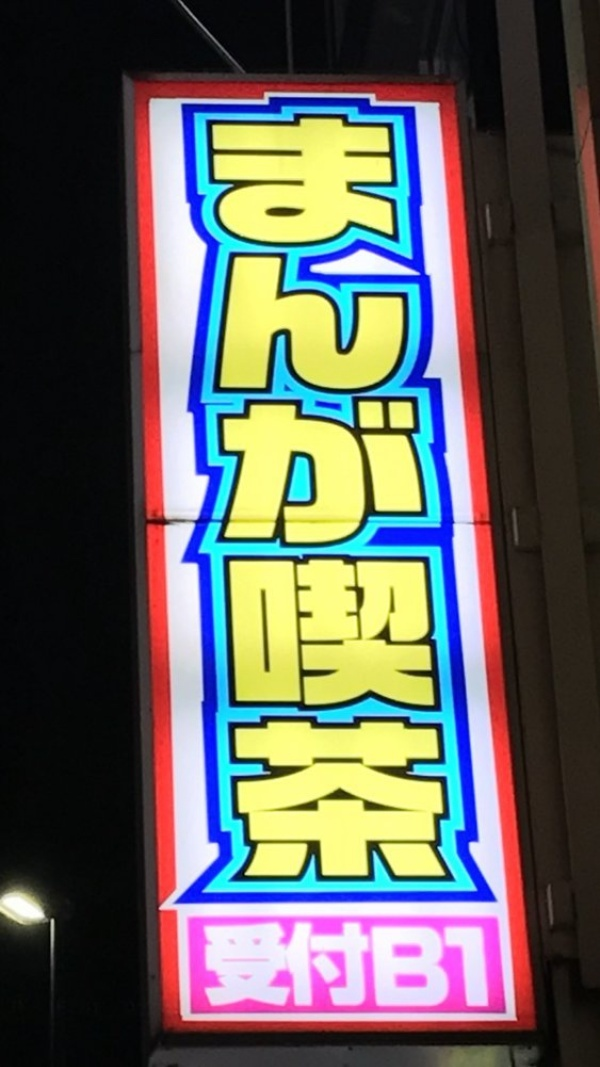text: (209, 112, 224, 894), (225, 112, 240, 894), (241, 112, 256, 894), (257, 112, 272, 894), (273, 112, 288, 894), (289, 112, 304, 894), (305, 112, 320, 894), (321, 112, 336, 894), (337, 112, 352, 894), (353, 112, 368, 894), (369, 112, 384, 894), (385, 112, 400, 894), (401, 112, 416, 894), (417, 112, 432, 894), (433, 112, 448, 894), (449, 112, 462, 894), (203, 112, 208, 894), (209, 913, 224, 1025), (225, 913, 240, 1025), (241, 913, 256, 1025), (257, 913, 272, 1025), (273, 913, 288, 1025), (289, 913, 304, 1025), (305, 913, 320, 1025), (321, 913, 336, 1025), (337, 913, 352, 1025), (353, 913, 368, 1025), (369, 913, 384, 1025), (385, 913, 400, 1025), (401, 913, 416, 1025), (417, 913, 432, 1025), (433, 913, 448, 1025), (449, 913, 464, 1025), (465, 913, 480, 1025), (481, 913, 493, 1025), (201, 913, 208, 1025)
